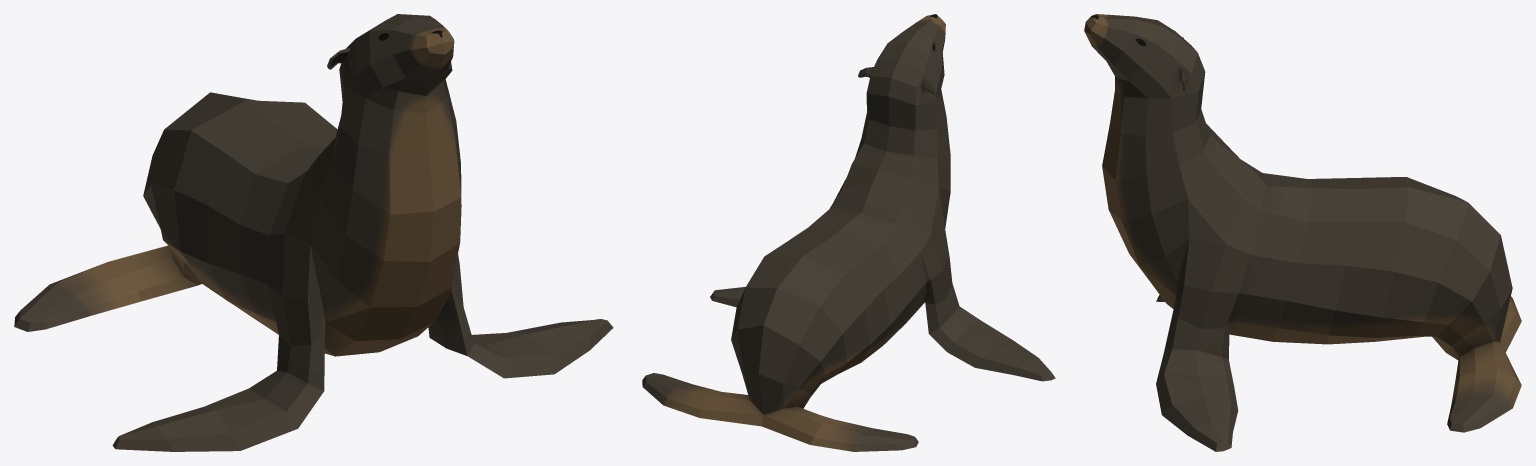
File: Sea lion.glb
The picture shows the model from 3 angles, left to right: view 1: azimuth 30°, elevation 25°; view 2: azimuth 150°, elevation 25°; view 3: azimuth 270°, elevation 25°; orthographic projection. The views are drawn at different scales.
Visible parts, largest first — view 1: SeaLion_Mesh; view 2: SeaLion_Mesh; view 3: SeaLion_Mesh.
Boxes of the visible parts, bbox=[...] form: SeaLion_Mesh: bbox=[14, 14, 613, 451]; SeaLion_Mesh: bbox=[642, 14, 1055, 451]; SeaLion_Mesh: bbox=[1084, 14, 1521, 451].
Bounding box in the file's own units: 9.53 × 7.54 × 8.86.
Materials: 1 (1 with a texture image).
